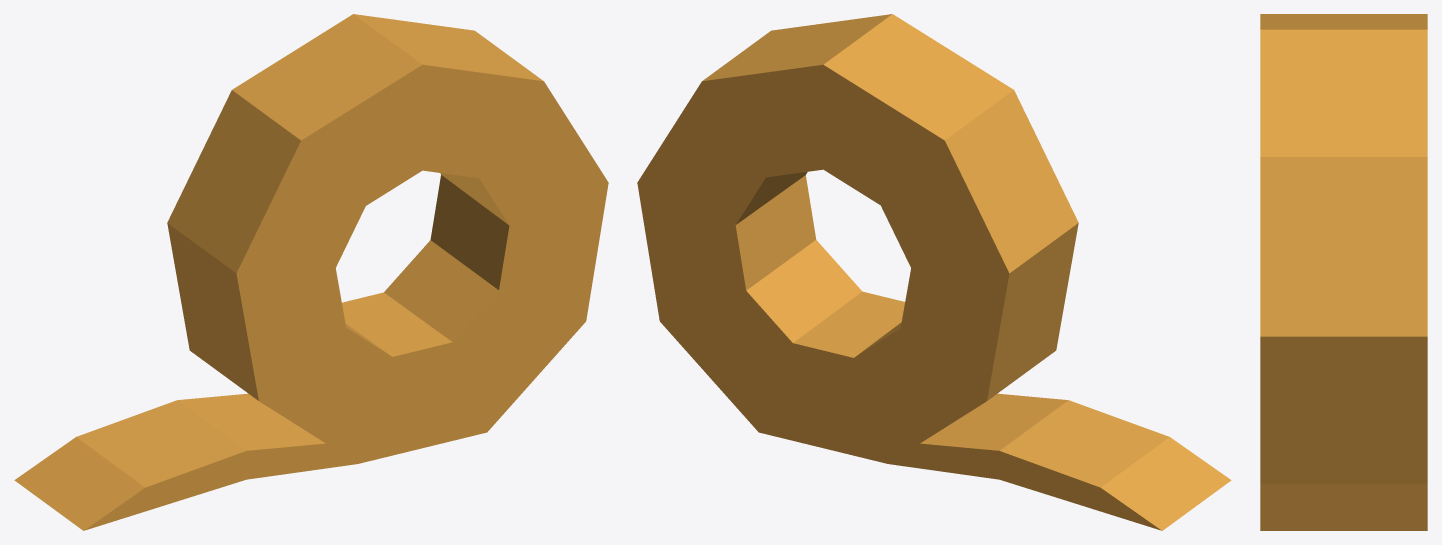
Rendered from survival-duct-tape.glb.
3 views of the same model, side by side, from view 1: azimuth 30°, elevation 25°; view 2: azimuth 150°, elevation 25°; view 3: azimuth 270°, elevation 25° (orthographic). The views are drawn at different scales.
Visible parts, largest first — view 1: duct-tape; view 2: duct-tape; view 3: duct-tape.
Part boxes in pixels (box(x1,y1,x2,y2)): duct-tape: box(14, 14, 608, 530); duct-tape: box(637, 14, 1231, 530); duct-tape: box(1260, 14, 1427, 530).
Size of the model in its own units: 0.2101 by 0.1466 by 0.048.
